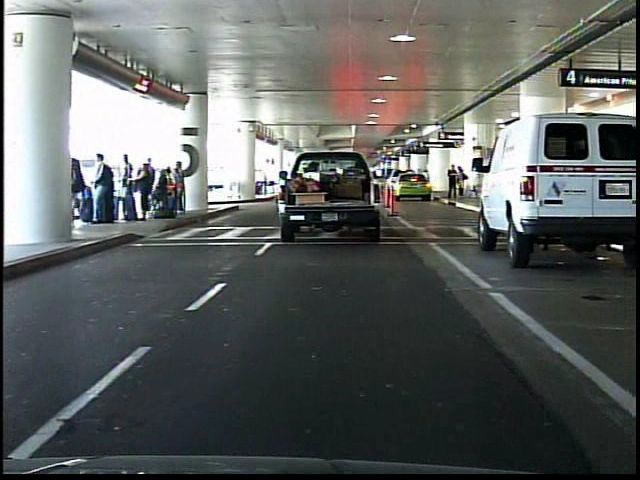person: (445, 164, 458, 201), (457, 165, 469, 203)
